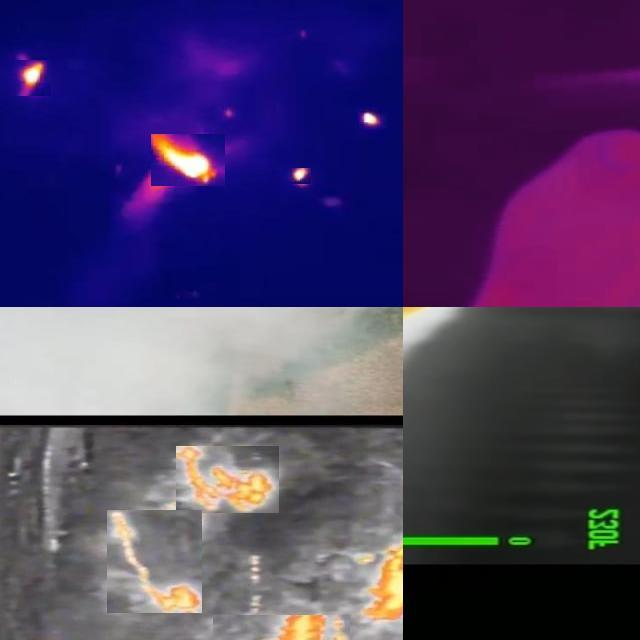fire: (108, 510, 203, 613), (361, 429, 404, 624), (177, 446, 280, 513), (152, 134, 226, 186), (214, 615, 351, 640), (12, 60, 52, 96), (282, 168, 312, 184)
